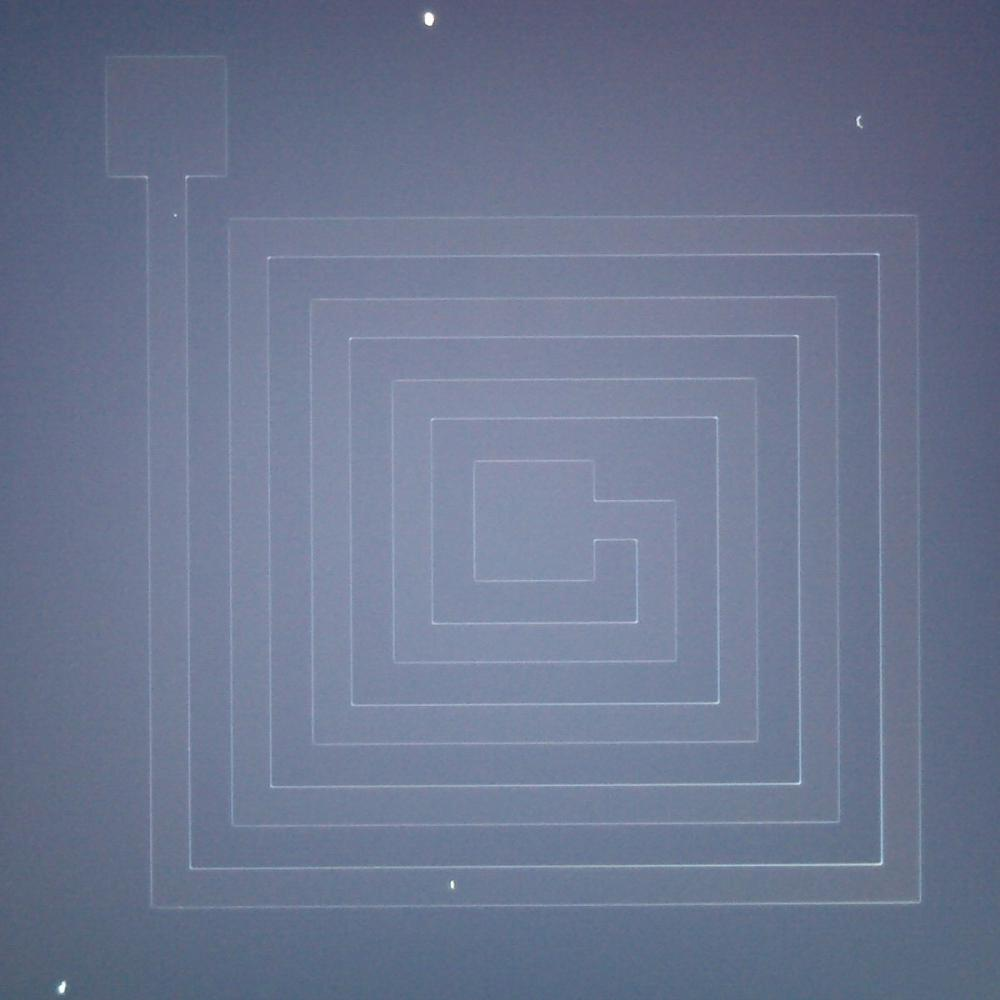Bdot: (421, 12, 437, 26)
dot: (56, 981, 68, 994), (853, 115, 866, 127), (448, 881, 456, 888), (174, 214, 178, 218)
